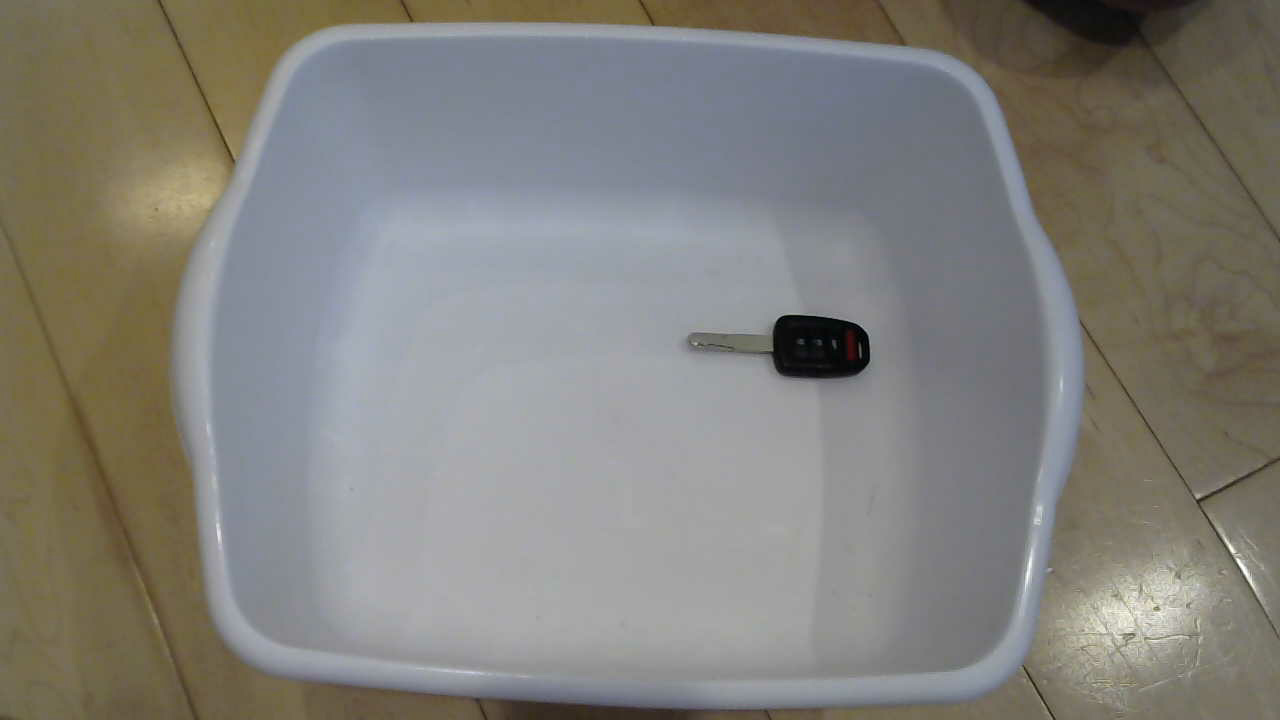key: (660, 305, 886, 401)
